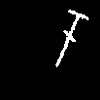double_crochet: (56, 10, 87, 66)
